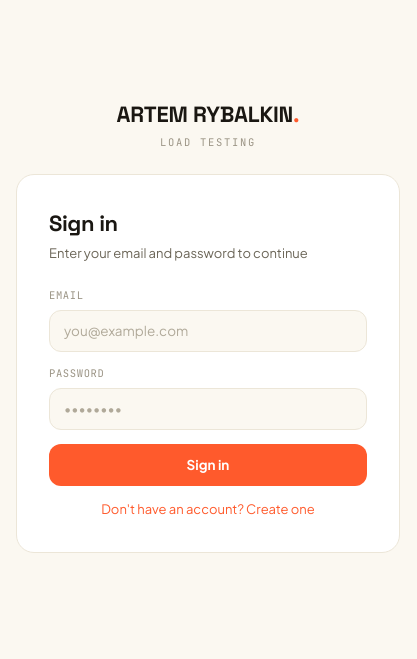
Scenario: LoginPage — register mode › shows name and team name fields after switching to register
This screenshot has width=417, height=659.
What coordinates should you click on to do the following:
click the button "Don't have an account? Create one"
I would click on:
 (208, 510)
Its box is [49, 500, 367, 520].
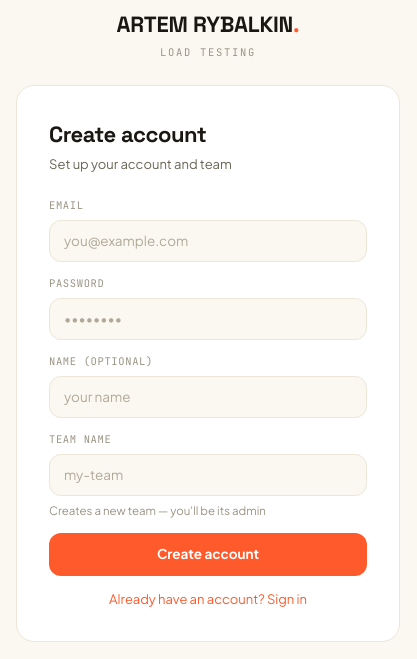
Expected: the field with placeholder "your name" is shown, [49, 376, 367, 418]
Expected: the field with placeholder "my-team" is shown, [49, 454, 367, 496]
Expected: the button "Create account" is shown, [49, 533, 367, 576]
